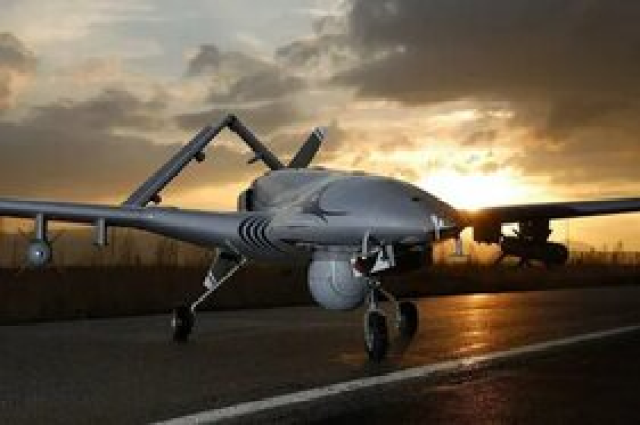military drone: (0, 112, 640, 358)
